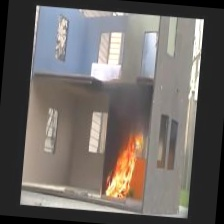fire: (105, 136, 139, 199)
smoke: (102, 61, 153, 130)
